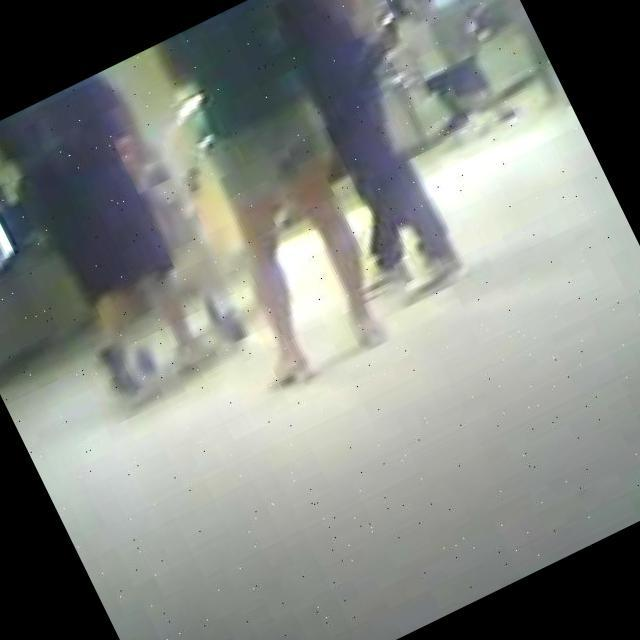person: (120, 0, 430, 397), (228, 0, 492, 315), (0, 73, 229, 405), (399, 0, 522, 137), (369, 0, 479, 146), (468, 0, 569, 113)
